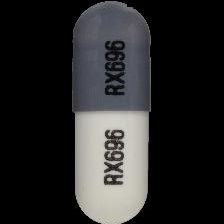63304-696: (0, 0, 224, 224)
